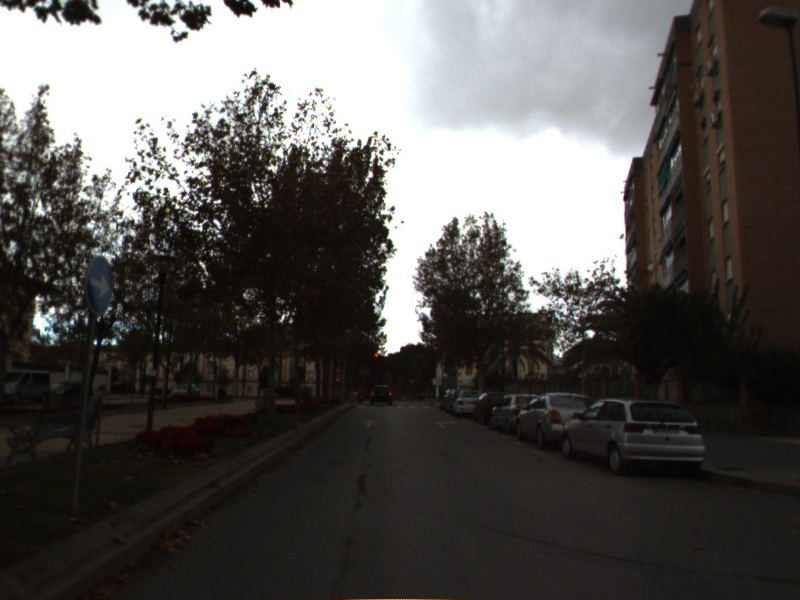RIGHT: (433, 418, 461, 430)
STRAIGHT: (360, 417, 379, 430)
